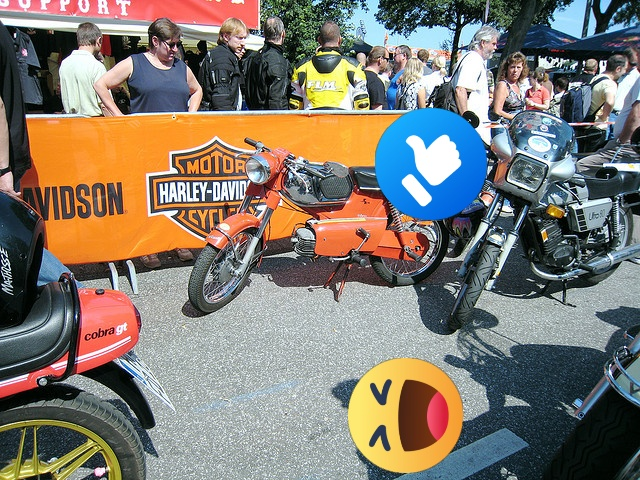haha: (348, 358, 463, 473)
like: (375, 108, 487, 220)
